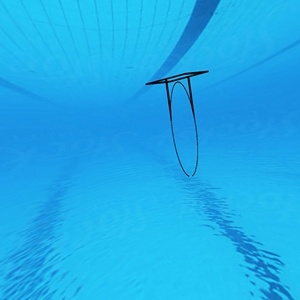circle: (144, 68, 213, 180)
